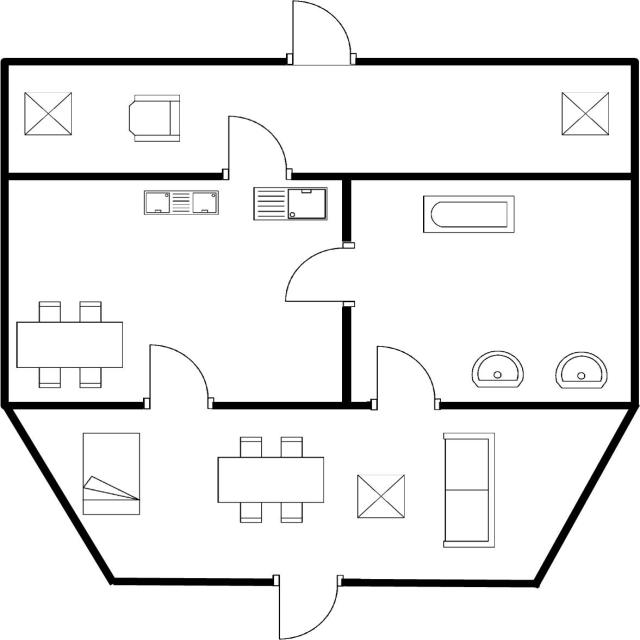armchair: (123, 88, 187, 149), (554, 87, 614, 142)
bed: (75, 427, 147, 520)
coffee_table: (350, 466, 410, 524), (18, 87, 76, 140)
dining_table: (210, 432, 329, 528), (12, 296, 126, 393)
large_sofa: (434, 428, 502, 554)
sink: (246, 182, 333, 226)
small_sink: (465, 346, 529, 394), (549, 346, 611, 394)
tub: (416, 190, 519, 237)
twin_sink: (137, 184, 222, 218)
